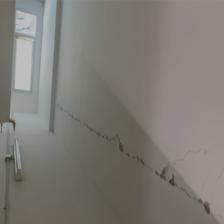Medium: (68, 109, 216, 211)
